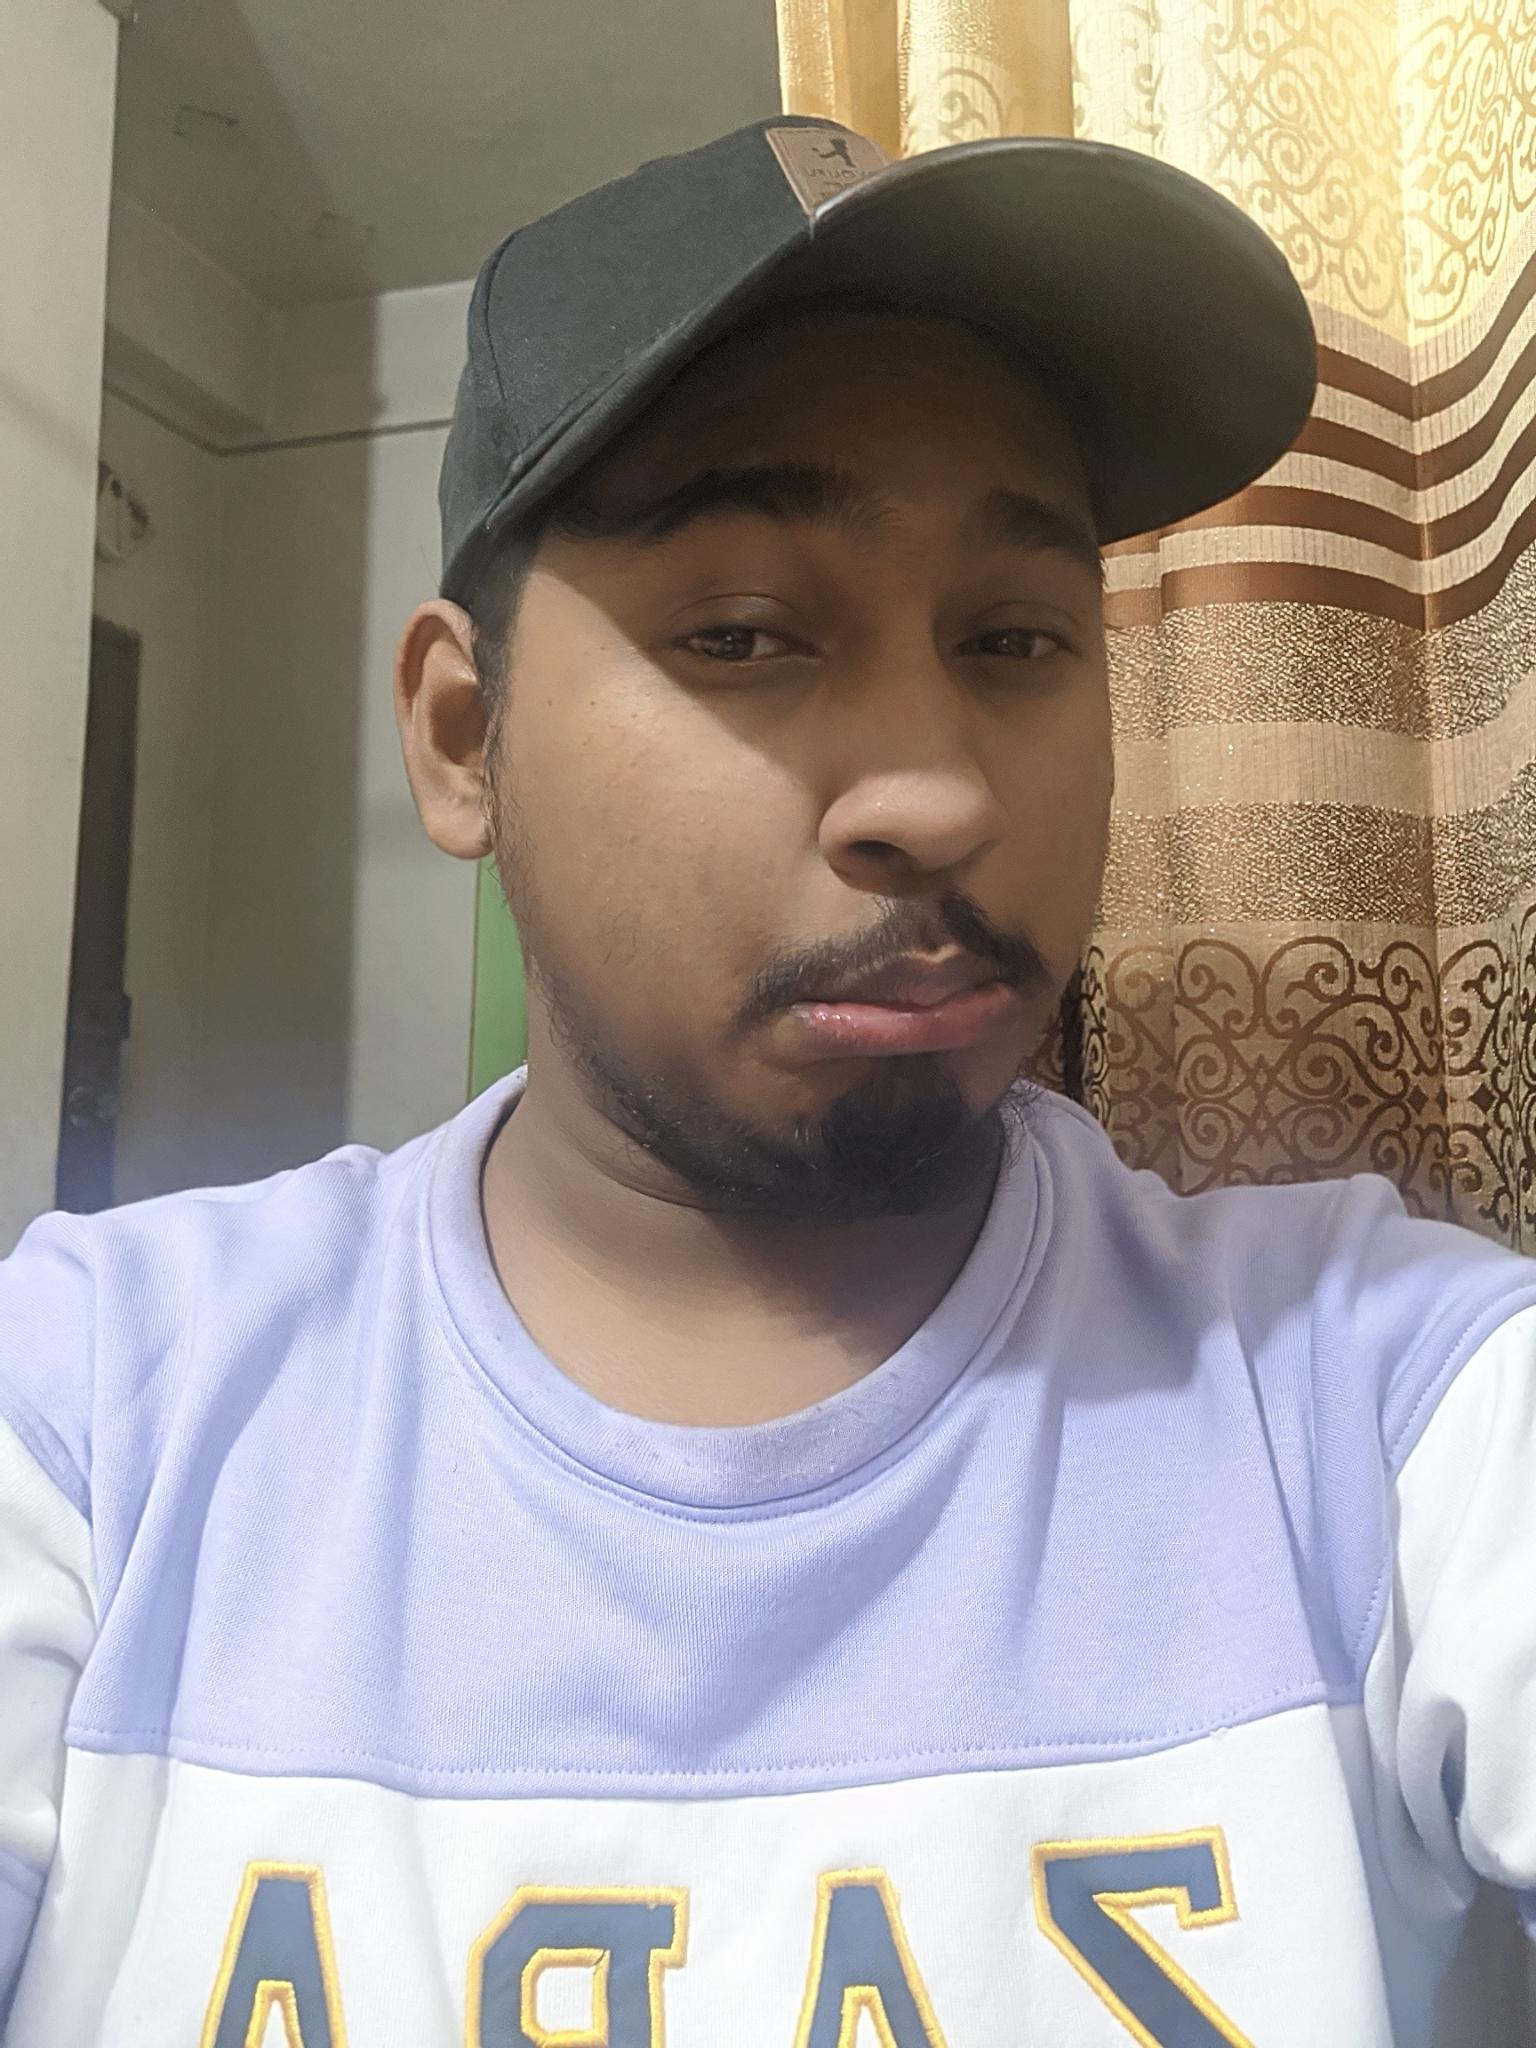Disgust: (592, 366, 1158, 1187)
